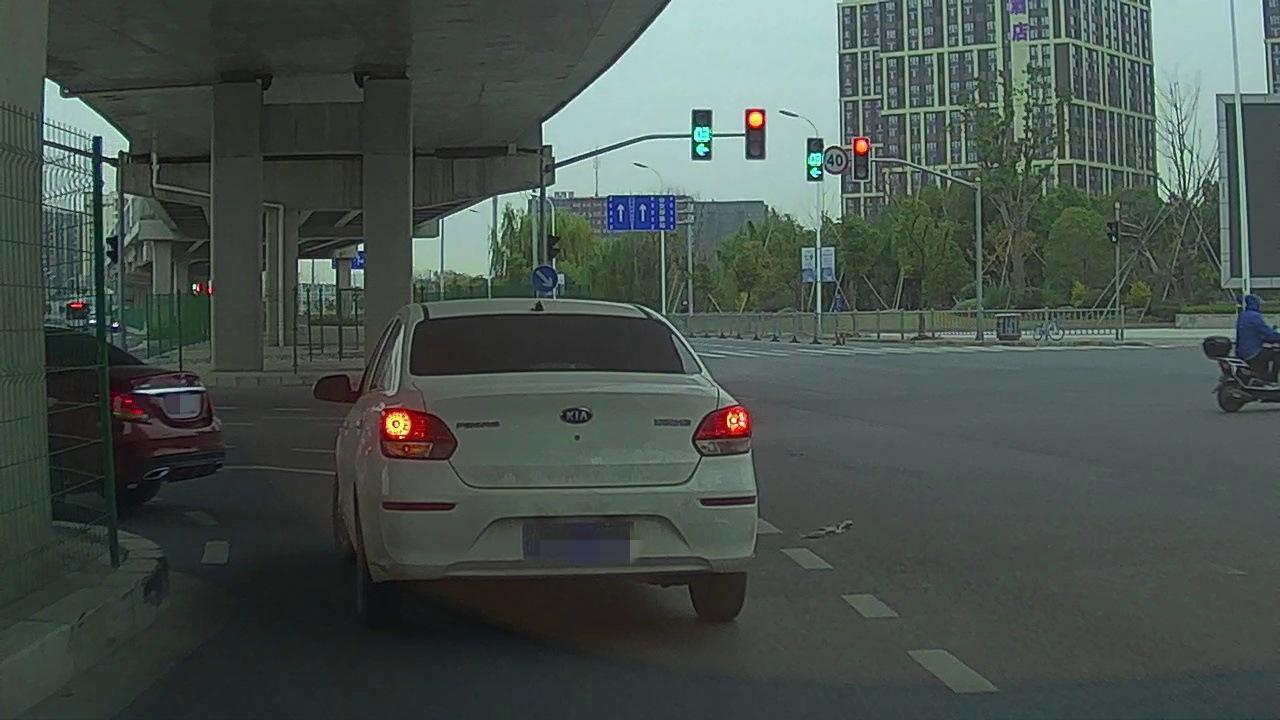traffic_light: (692, 110, 712, 160), (747, 110, 764, 161), (805, 139, 823, 181), (855, 139, 871, 179)
